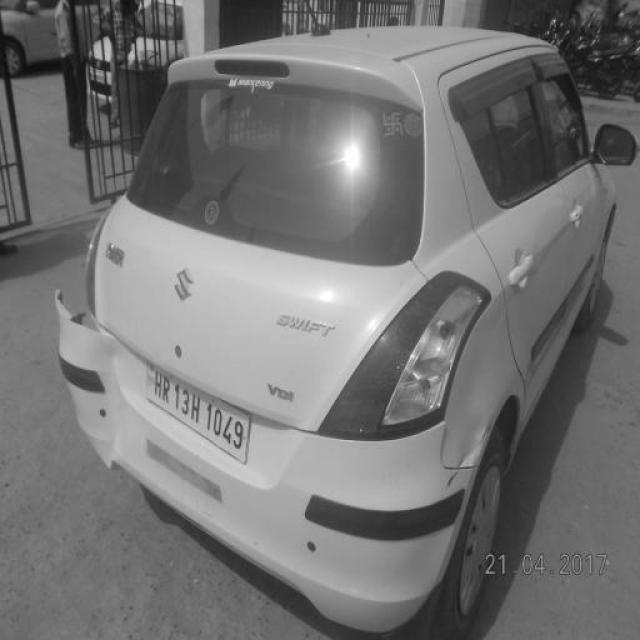misalignment: (54, 289, 116, 473)
scratch: (444, 423, 494, 492)
